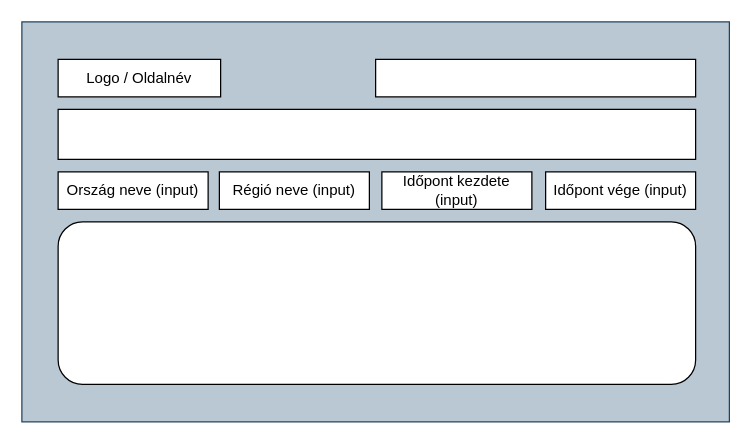
This 751x444 diagram has some shape labels left out. Here are the shapes that lost their labels. From the top down, the centre of each, then its label:
At pixel 535 77: "Menü".
At pixel 376 133: "Oldal leírása".
At pixel 376 302: "Eredmény (output)".
